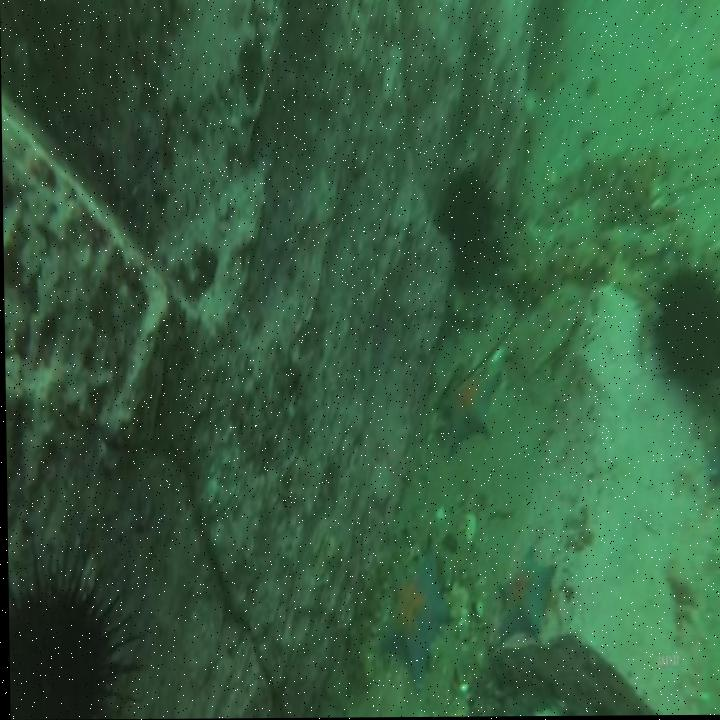echinus: (6, 550, 150, 720), (641, 252, 720, 405), (432, 156, 498, 298)
holothurian: (514, 229, 610, 290), (537, 140, 632, 201)
starfish: (373, 546, 454, 693), (484, 539, 557, 655), (421, 361, 505, 461)
